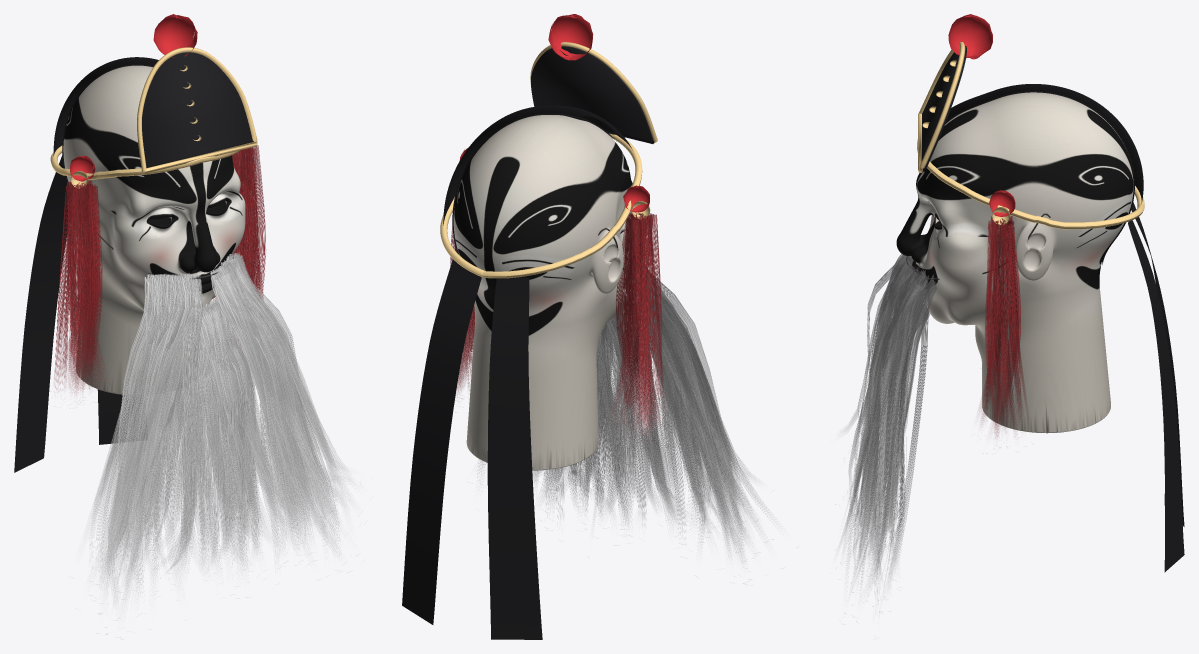
File: head_zhangfei.glb
3 views of the same model, side by side, from view 1: azimuth 30°, elevation 25°; view 2: azimuth 150°, elevation 25°; view 3: azimuth 270°, elevation 25° (orthographic). The views are drawn at different scales.
Parts seen in each view (by area): view 1: Beard, Face, Zhajin_Tassel, Zhajin_Ribbon, Zhajin_Front, Zhajin_Gold, Zhajin_Pom, Zhajin, Zhajin_Rim; view 2: Face, Zhajin_Ribbon, Beard, Zhajin_Tassel, Zhajin_Front, Zhajin_Rim, Zhajin_Pom, Zhajin, Zhajin_Gold; view 3: Face, Beard, Zhajin_Tassel, Zhajin_Ribbon, Zhajin, Zhajin_Pom, Zhajin_Rim, Zhajin_Gold, Zhajin_Front, Wangzi.
Boxes of the visible parts, x1,y1,x2,y2 form: Beard: (86, 252, 354, 634); Face: (63, 65, 245, 394); Zhajin_Tassel: (54, 145, 265, 392); Zhajin_Ribbon: (14, 155, 133, 472); Zhajin_Front: (142, 52, 253, 167); Zhajin_Gold: (70, 47, 257, 188); Zhajin_Pom: (70, 14, 197, 181); Zhajin: (53, 57, 158, 155); Zhajin_Rim: (50, 145, 239, 179); Face: (453, 115, 638, 470); Zhajin_Ribbon: (402, 259, 542, 639); Beard: (478, 269, 761, 583); Zhajin_Tassel: (450, 211, 665, 440); Zhajin_Front: (530, 46, 654, 143); Zhajin_Rim: (440, 133, 642, 278); Zhajin_Pom: (459, 14, 649, 212); Zhajin: (443, 105, 632, 225); Zhajin_Gold: (530, 42, 657, 218); Face: (896, 92, 1133, 433); Beard: (841, 254, 936, 612); Zhajin_Tassel: (980, 216, 1028, 436); Zhajin_Ribbon: (1128, 202, 1184, 572); Zhajin: (946, 84, 1143, 203); Zhajin_Pom: (948, 14, 1015, 216); Zhajin_Rim: (917, 139, 1144, 229); Zhajin_Gold: (918, 42, 1010, 224); Zhajin_Front: (922, 46, 966, 171); Wangzi: (945, 91, 1134, 264).
Bounding box in the file's own units: 0.3587 × 0.6182 × 0.3493.
9 materials, 4 textured.
